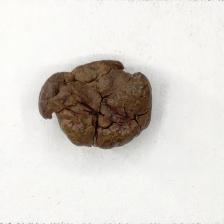NG: (39, 60, 153, 148)
